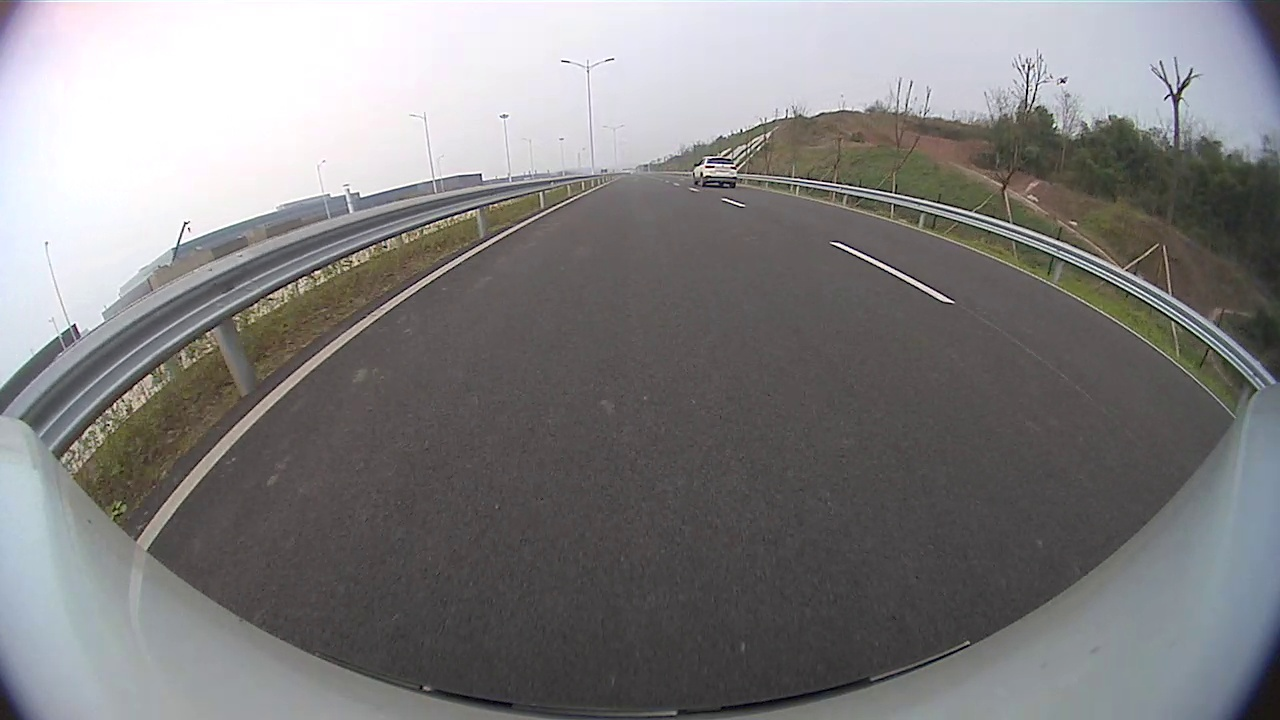car: (692, 156, 737, 189)
